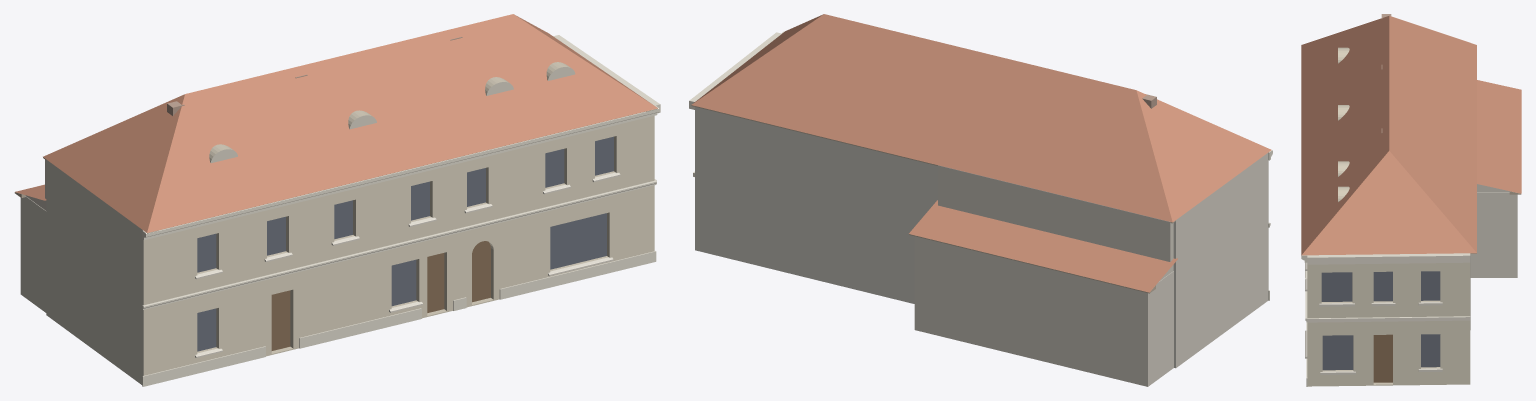
3 views of the same model, side by side, from view 1: azimuth 30°, elevation 25°; view 2: azimuth 150°, elevation 25°; view 3: azimuth 270°, elevation 25° (orthographic). The views are drawn at different scales.
Parts seen in each view (by area): view 1: CP_250_Masonry, CP_250_Roof, CP_250_Cornice_main_0, CP_250_Annex_S, CP_250_Cornice_string_0, CP_250_Cornice_plinth_3, CP_250_Cornice_plinth_0, CP_250_Cornice_plinth_1, CP_250_Cornice_square_main; view 2: CP_250_Roof, CP_250_Masonry, CP_250_Annex_S, CP_250_AtticClosure_1, CP_250_WingRoof_Annex_S, CP_250_Cornice_square_main; view 3: CP_250_Roof, CP_250_Masonry, CP_250_WingRoof_Annex_S, CP_250_Annex_S, CP_250_Cornice_square_main, CP_250_Cornice_square_string.
Part boxes in pixels (x1=…): CP_250_Masonry: x1=46, y1=116, x2=654, y2=384; CP_250_Roof: x1=43, y1=14, x2=657, y2=232; CP_250_Cornice_main_0: x1=142, y1=105, x2=659, y2=240; CP_250_Annex_S: x1=20, y1=196, x2=46, y2=312; CP_250_Cornice_string_0: x1=142, y1=180, x2=656, y2=309; CP_250_Cornice_plinth_3: x1=499, y1=251, x2=656, y2=299; CP_250_Cornice_plinth_0: x1=142, y1=346, x2=265, y2=386; CP_250_Cornice_plinth_1: x1=299, y1=308, x2=421, y2=348; CP_250_Cornice_square_main: x1=553, y1=35, x2=660, y2=113; CP_250_Roof: x1=691, y1=14, x2=1271, y2=222; CP_250_Masonry: x1=695, y1=107, x2=1268, y2=368; CP_250_Annex_S: x1=914, y1=236, x2=1173, y2=386; CP_250_AtticClosure_1: x1=938, y1=165, x2=1173, y2=281; CP_250_WingRoof_Annex_S: x1=909, y1=200, x2=1177, y2=292; CP_250_Cornice_square_main: x1=689, y1=32, x2=781, y2=109; CP_250_Roof: x1=1301, y1=15, x2=1476, y2=255; CP_250_Masonry: x1=1307, y1=254, x2=1470, y2=386; CP_250_WingRoof_Annex_S: x1=1477, y1=80, x2=1521, y2=193; CP_250_Annex_S: x1=1470, y1=192, x2=1517, y2=277; CP_250_Cornice_square_main: x1=1307, y1=253, x2=1470, y2=264; CP_250_Cornice_square_string: x1=1307, y1=316, x2=1470, y2=322.
Size of the model in its own units: 26.17 by 11.3 by 11.4.
